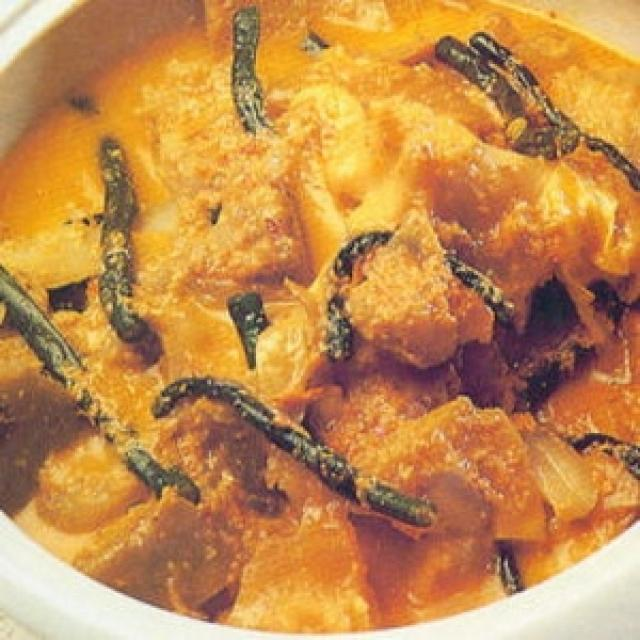熟制海鲜: (21, 26, 612, 625)
